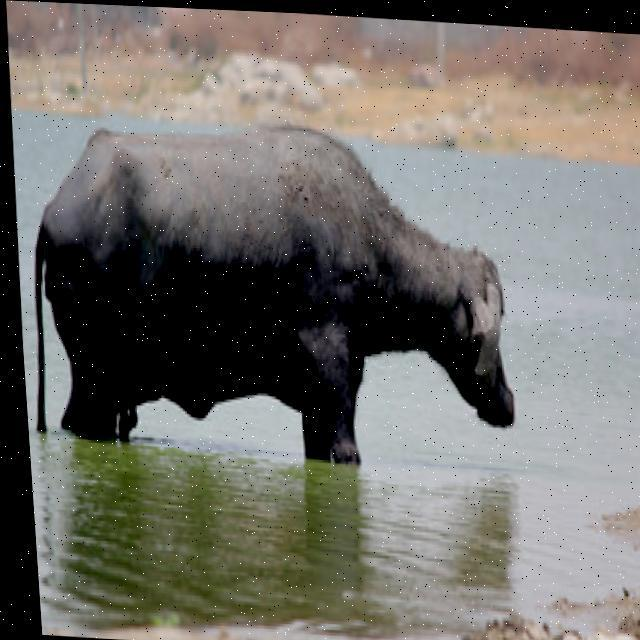Buffalo: (8, 98, 527, 480)
